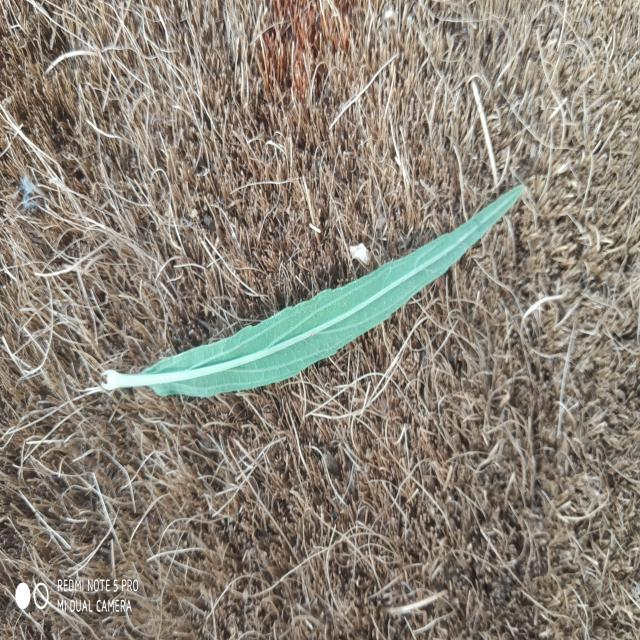thambe: (102, 184, 524, 398)
